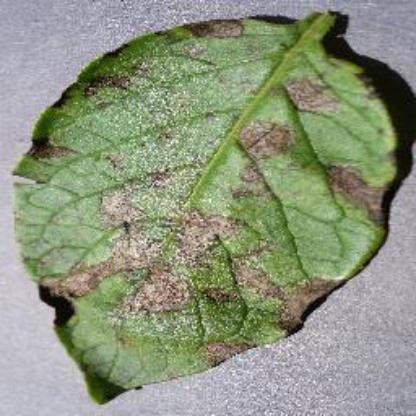Early-Blight: (14, 9, 406, 404)
